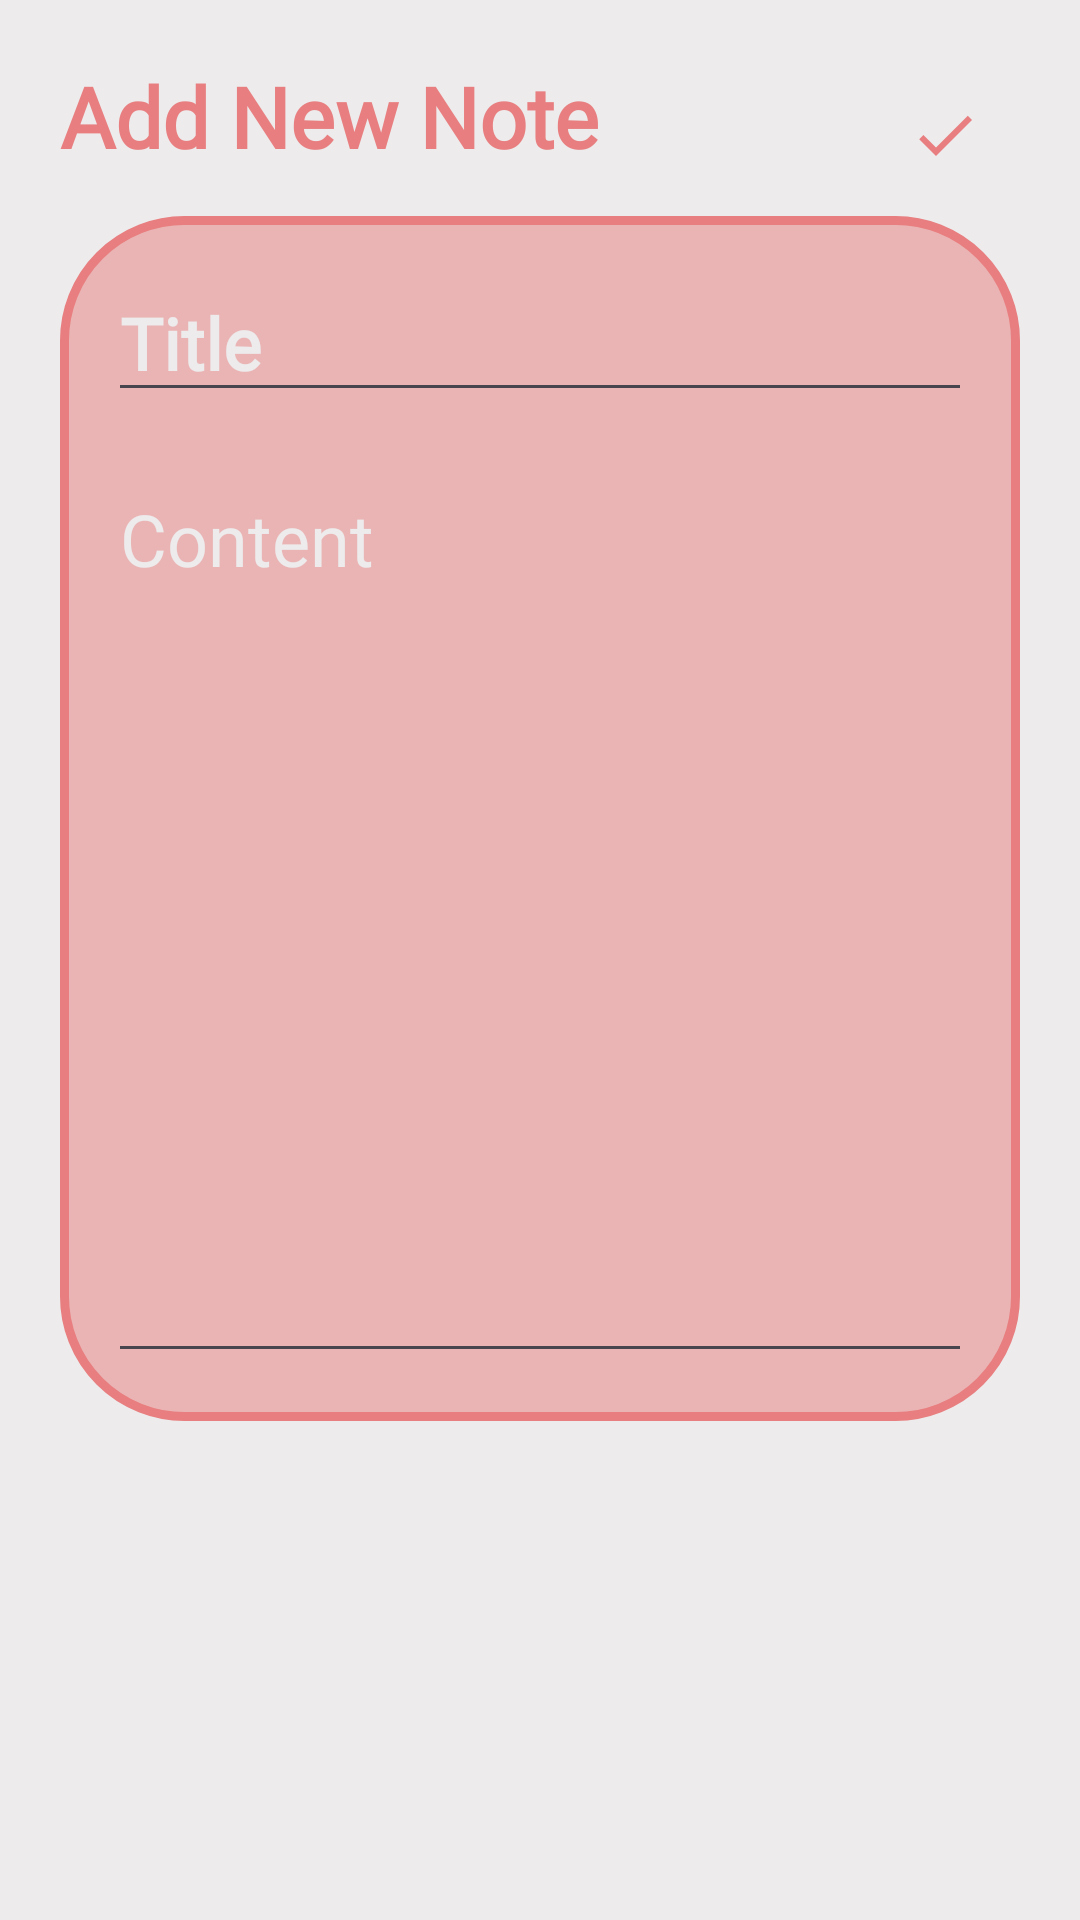

Point at icon controls on the screen. Image size 1080w x 1920h, points as [x,y].
done: [945,136]
